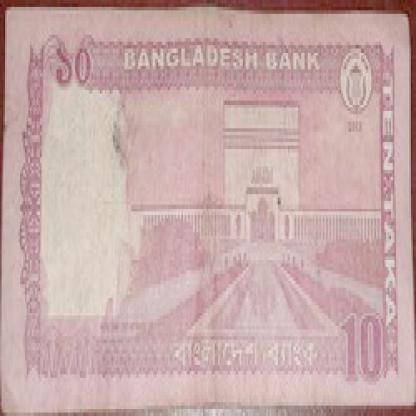Ten Taka: (338, 298, 386, 392), (50, 35, 100, 100)
